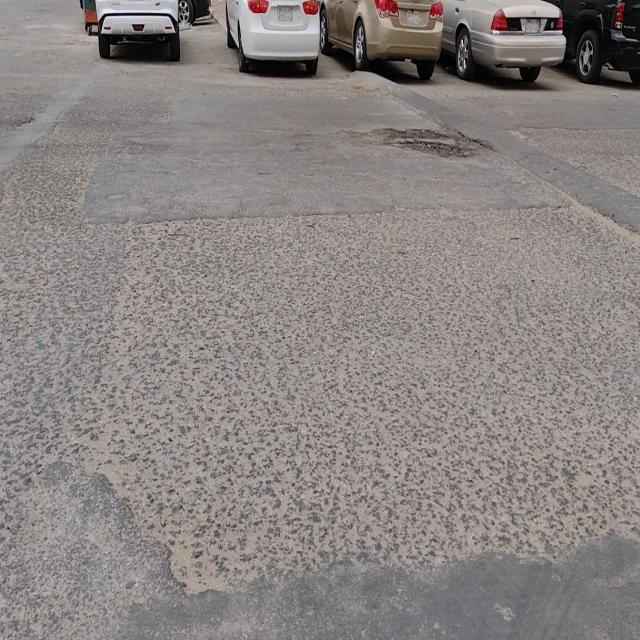Potholes: (387, 124, 472, 160)
